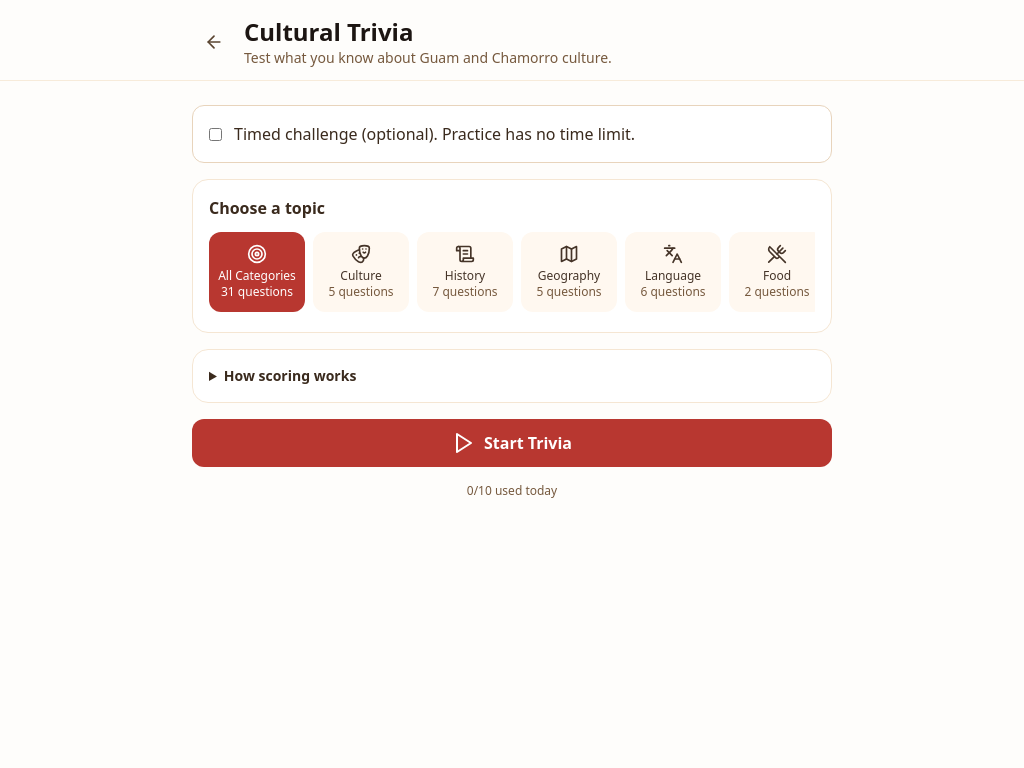
Test case: game result and round reliability › Cultural Trivia guards header, browser Back and close, then leaves once
This screenshot has width=1024, height=768.
Later steps or results of the test are not shown.
Click the button "Start Trivia" at [512, 443], box [192,419,832,467]
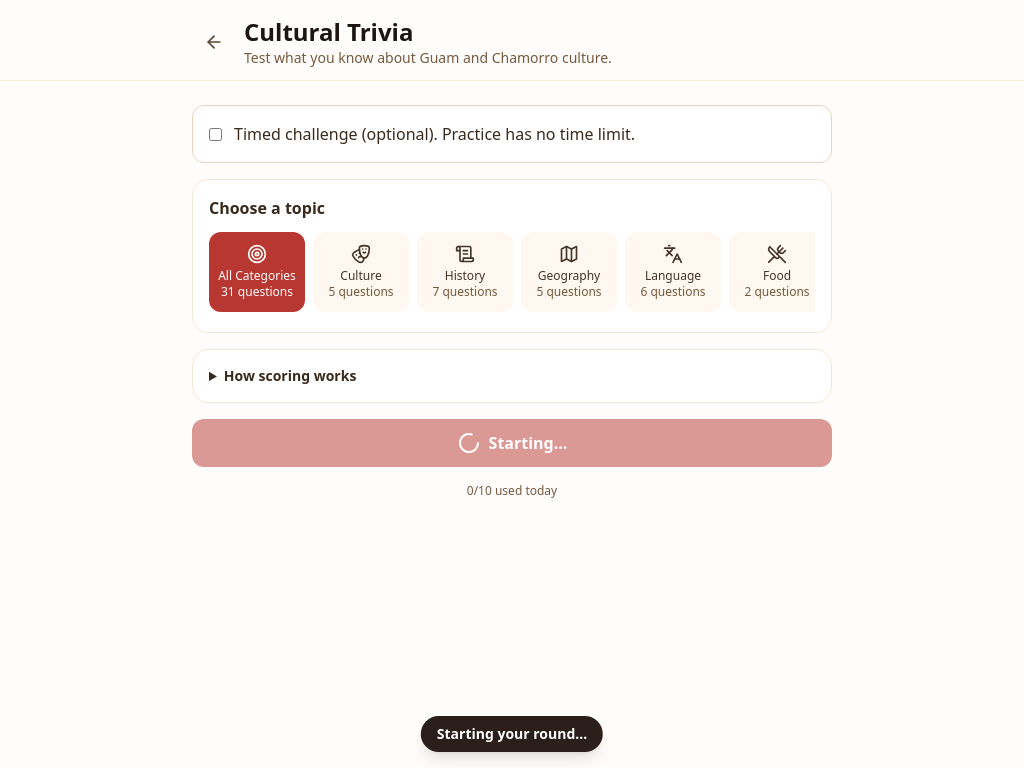
Now the button "Start Trivia" is gone
Click the button named "Back to games" at [214, 42], box [192,20,236,64]
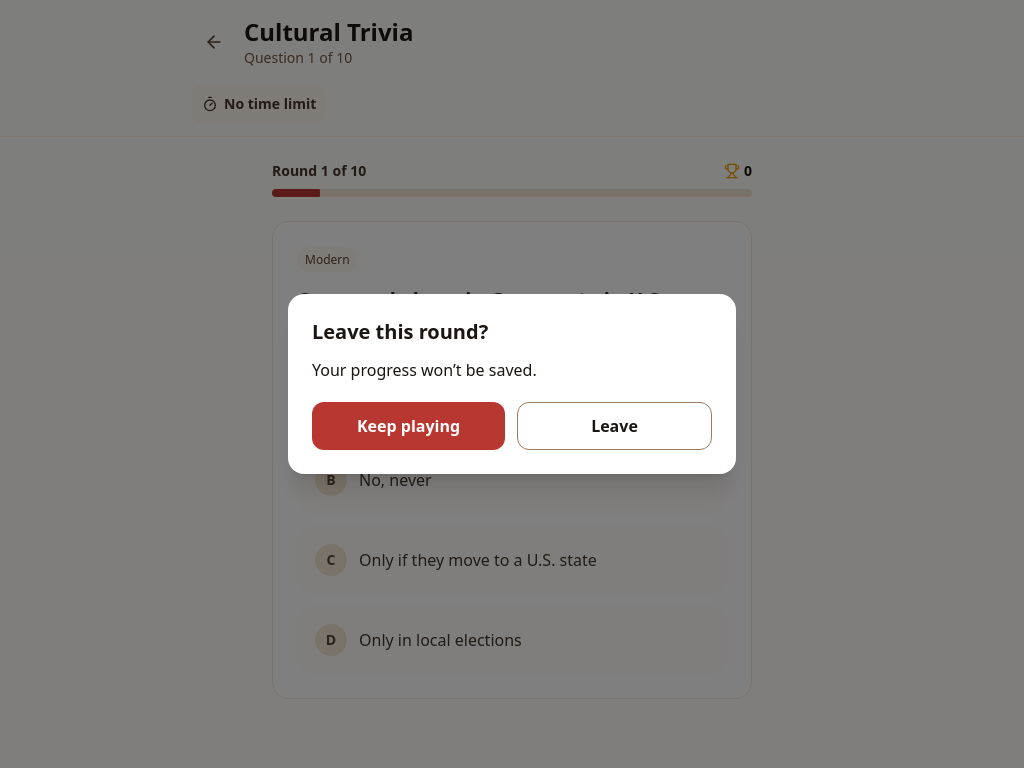
Now the dialog shows "Leave this round?", box [312,318,488,345]
